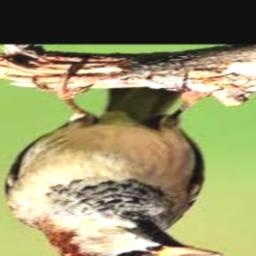Sparrow: (5, 70, 223, 256)
